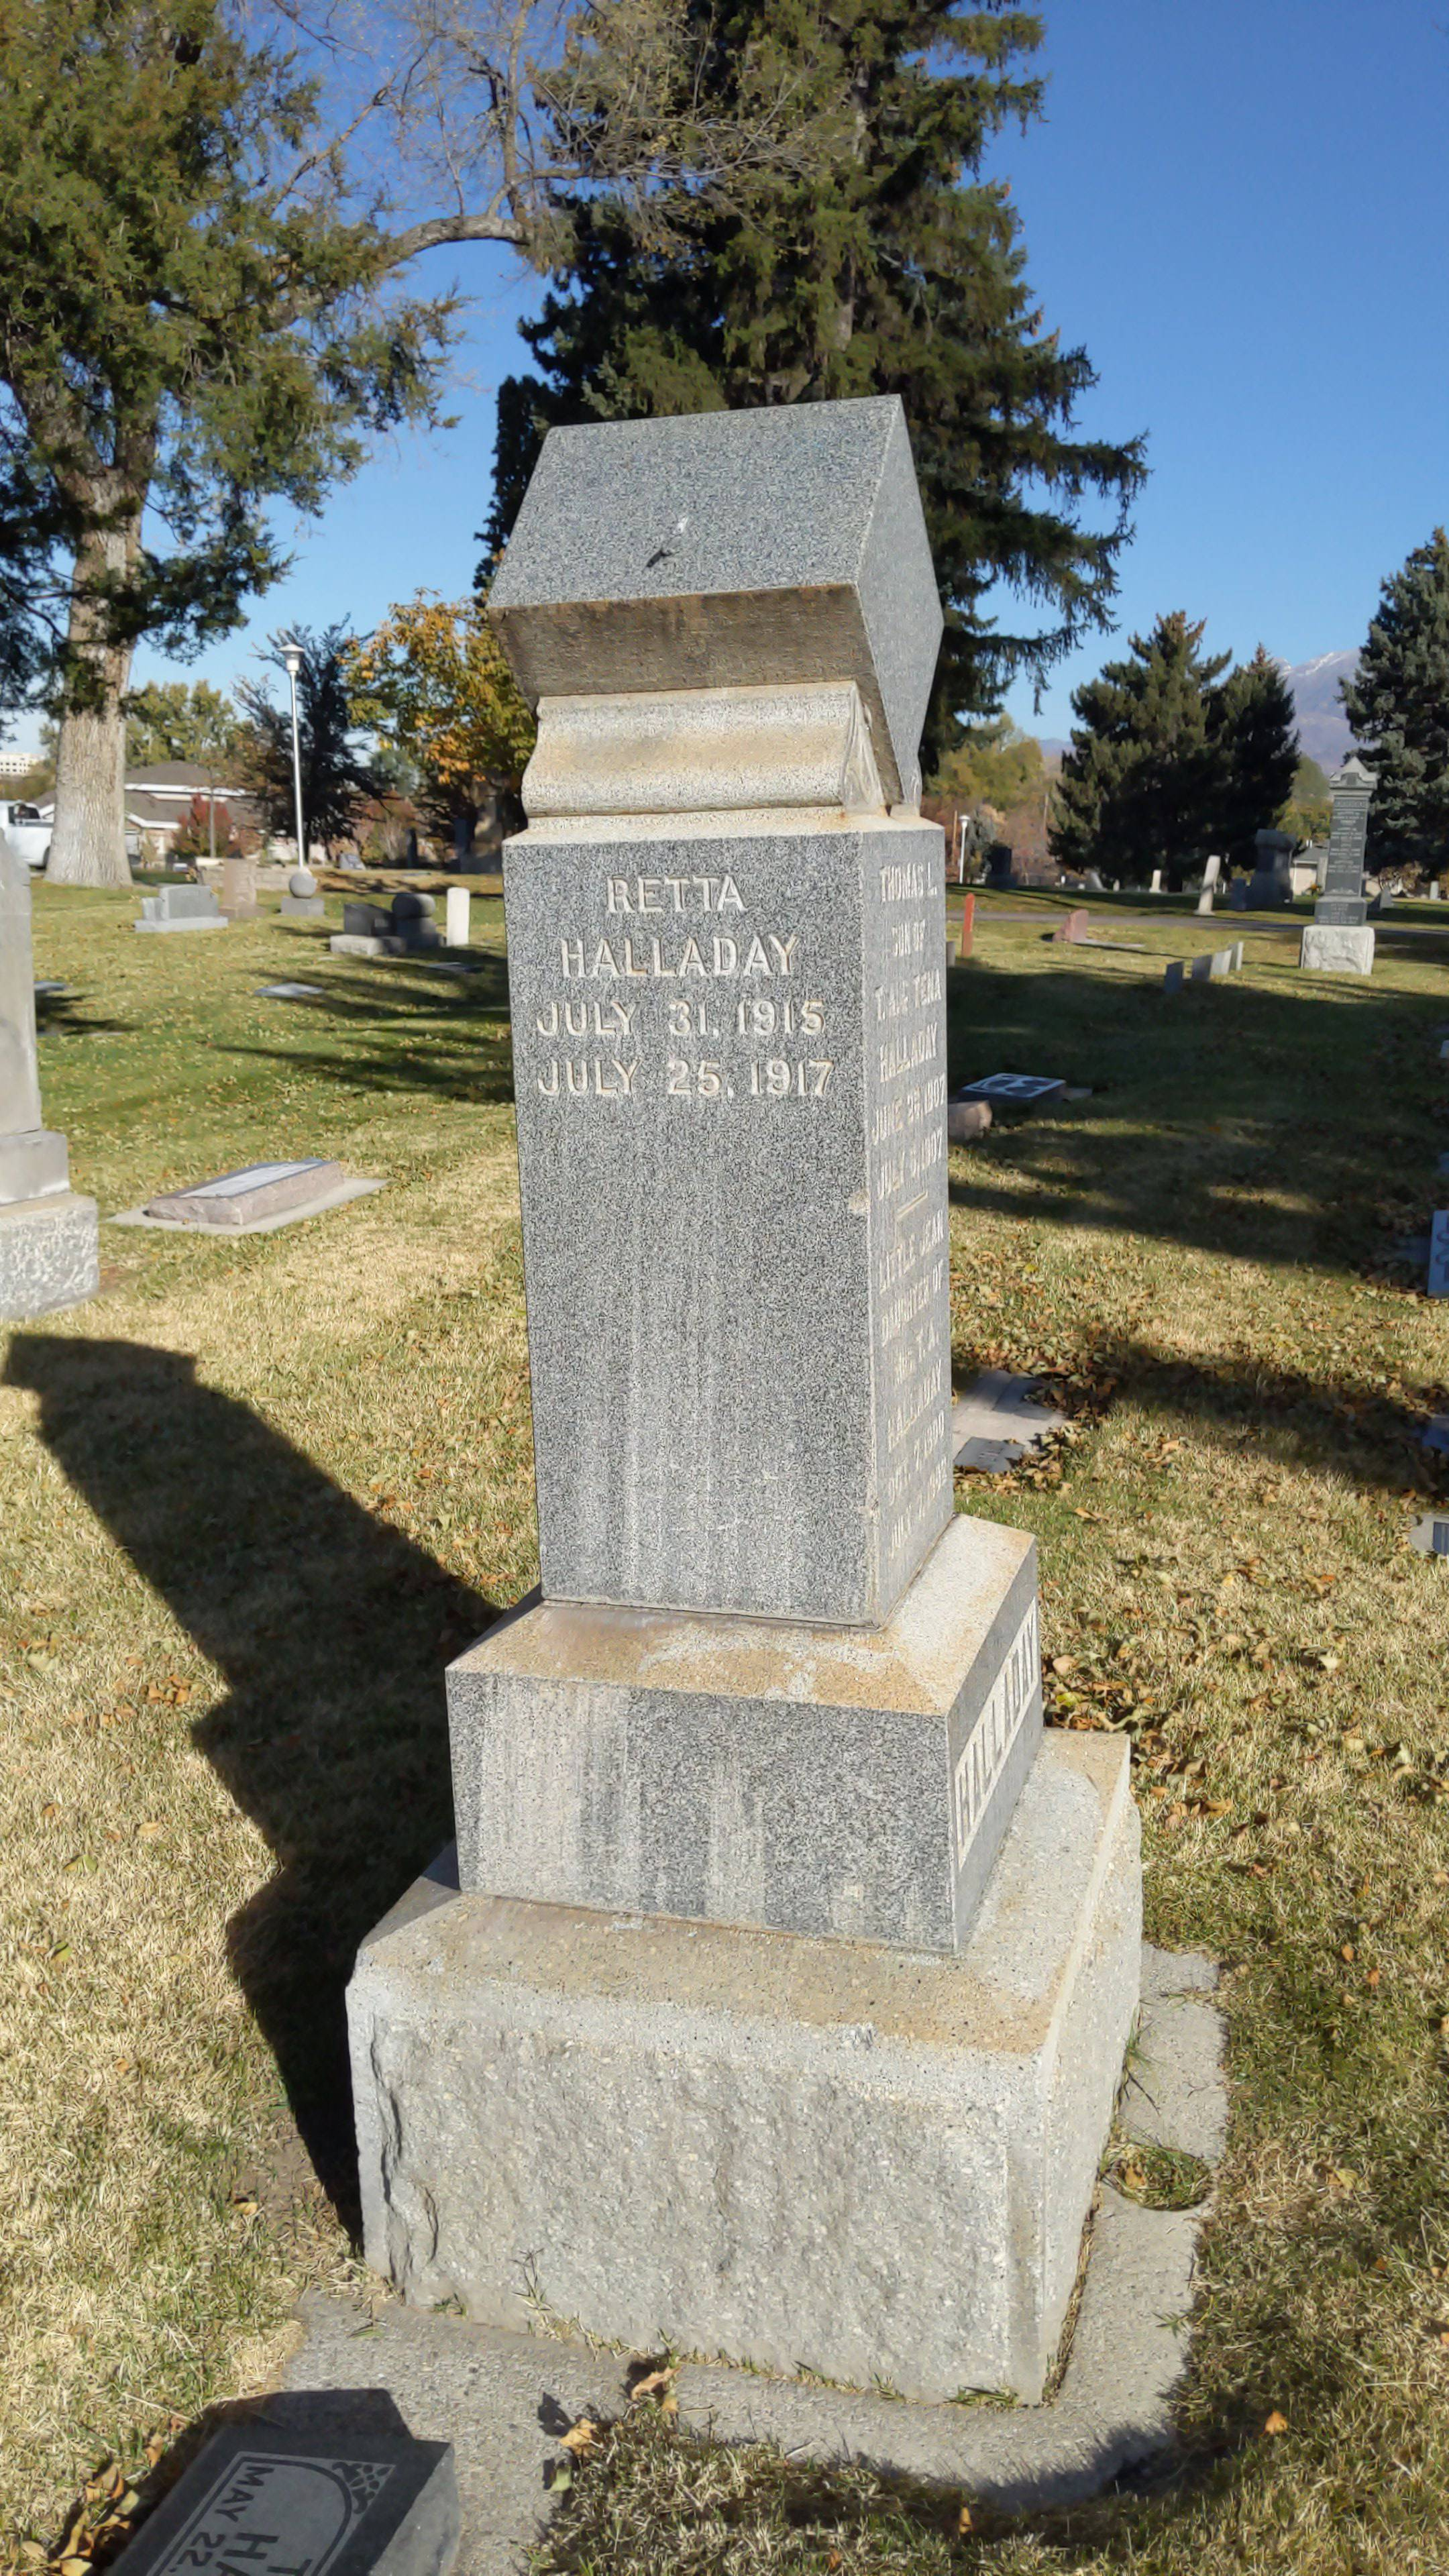obelisk: (441, 400, 1047, 1951)
